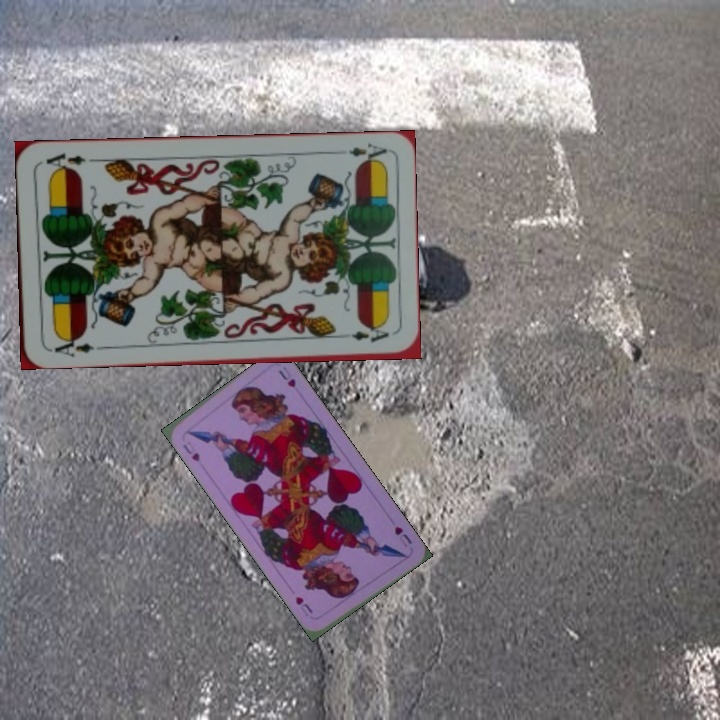EA: (45, 332, 96, 360), (345, 139, 389, 166)
HU: (390, 522, 414, 550), (179, 440, 202, 464)
